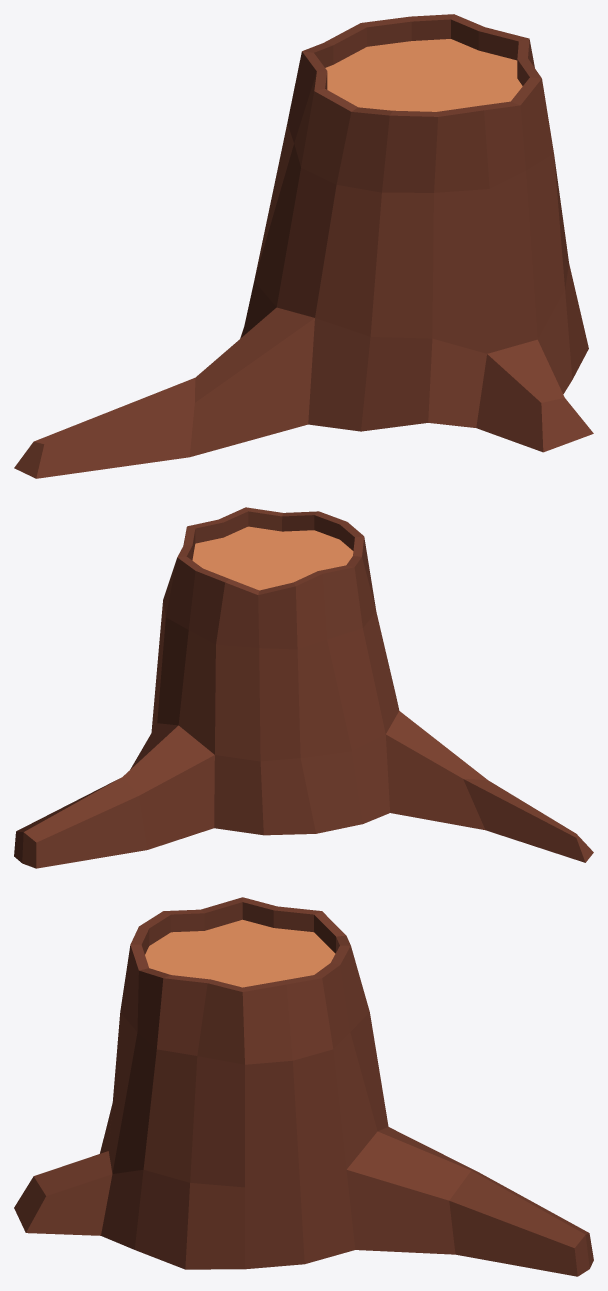
The model's file is pine_trunk_type_2_LOD0.fbx.
3 renders of one model, top to bottom at view 1: azimuth 30°, elevation 25°; view 2: azimuth 150°, elevation 25°; view 3: azimuth 270°, elevation 25°, orthographic. The views are drawn at different scales.
Visible parts, largest first — view 1: pt_type_2; view 2: pt_type_2; view 3: pt_type_2.
Boxes of the visible parts, x1,y1,x2,y2 form: pt_type_2: (14, 14, 593, 478); pt_type_2: (14, 507, 593, 868); pt_type_2: (14, 897, 593, 1276).
Size of the model in its own units: 368 by 196 by 372.
